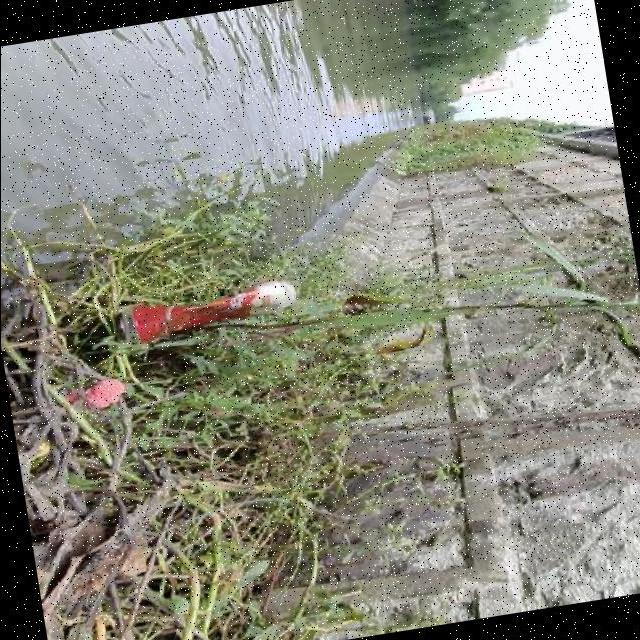Waste: (121, 269, 301, 349), (63, 378, 125, 418)
